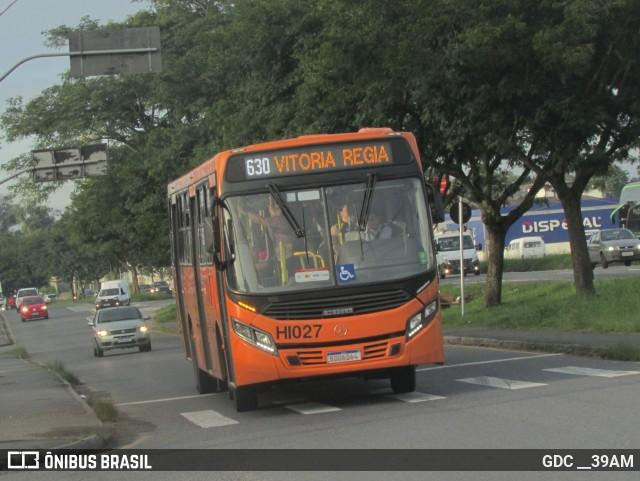VITORIA REGIA: (270, 141, 393, 175)
